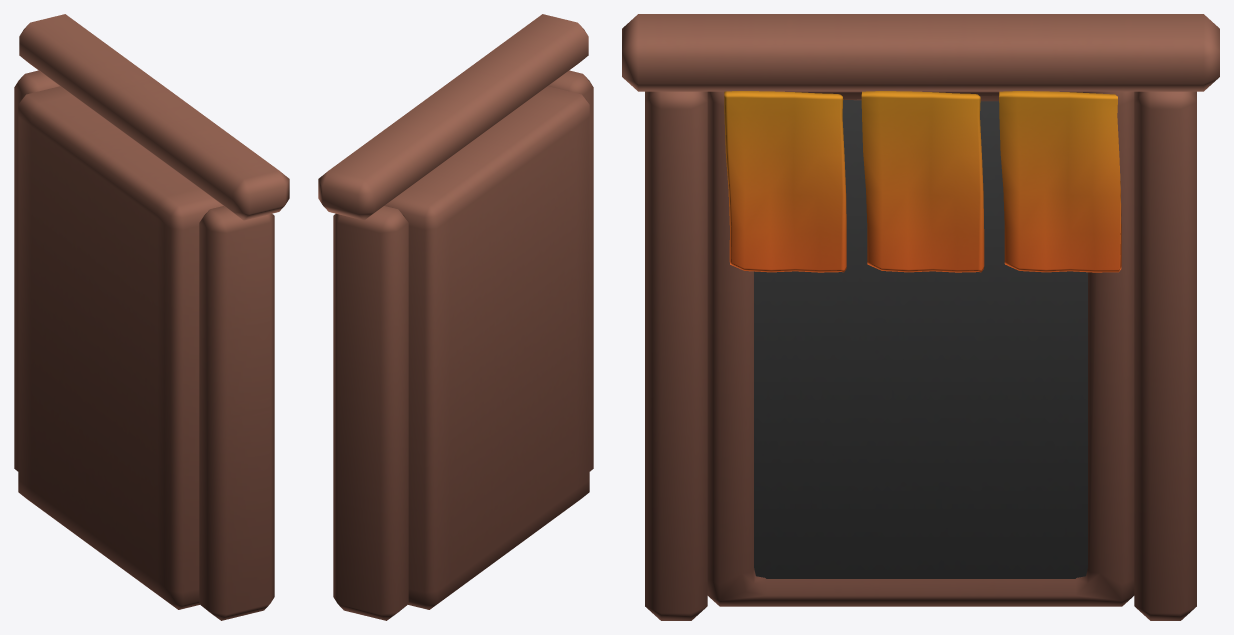
Rendered from SM_Wood_Door_04.fbx.
The picture shows the model from 3 angles, left to right: view 1: azimuth 30°, elevation 25°; view 2: azimuth 150°, elevation 25°; view 3: azimuth 270°, elevation 25°; orthographic projection. The views are drawn at different scales.
Visible parts, largest first — view 1: SM_Wood_Door_04; view 2: SM_Wood_Door_04; view 3: SM_Wood_Door_04.
Boxes of the visible parts, left/top/right/bottom form: SM_Wood_Door_04: left=14, top=14, right=289, bottom=620; SM_Wood_Door_04: left=318, top=14, right=593, bottom=620; SM_Wood_Door_04: left=622, top=14, right=1219, bottom=620.
Bounding box in the file's own units: 0.1268 × 0.5784 × 0.5324.
